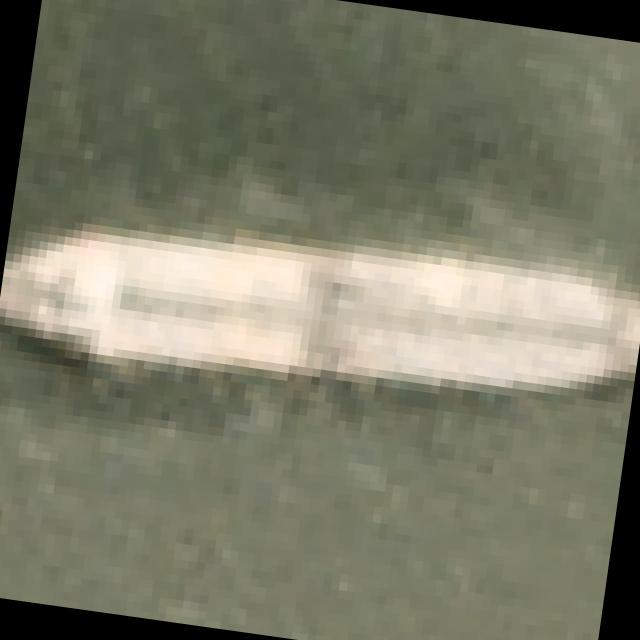ship: (0, 121, 640, 475)
